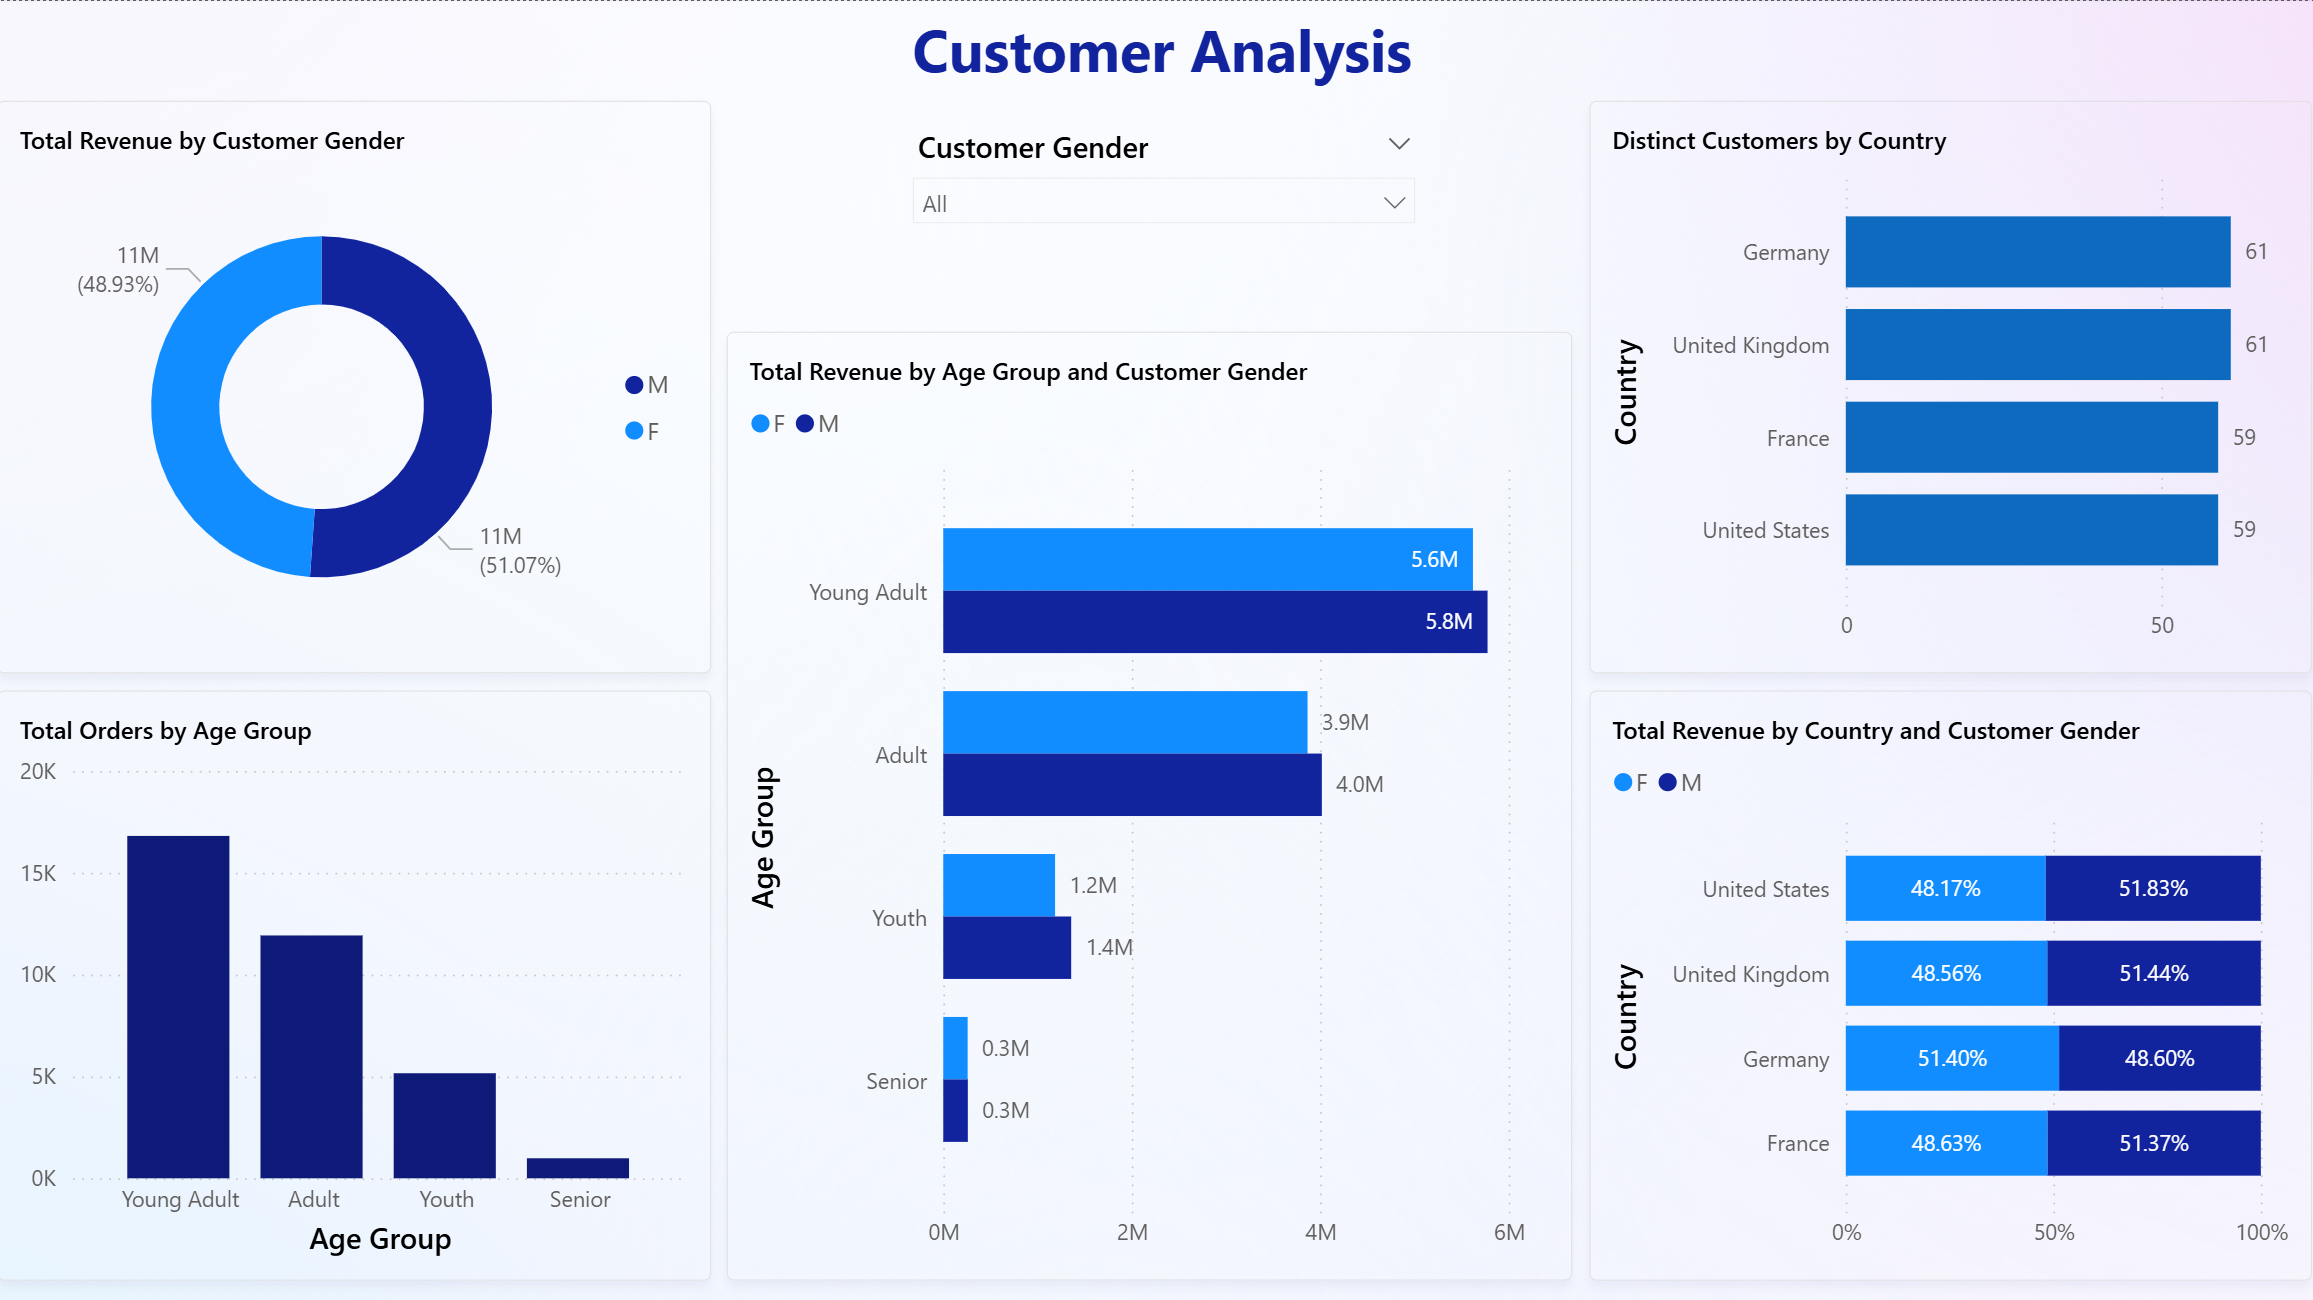

What the dashboard file says about the page in this screenshot:
{"tool":"powerbi","page":{"name":"Customer Analysis","canvas":[1280,720],"ordinal":4},"visuals":[{"type":"textbox","box":[501.5,0,288.1,55.2],"z":0},{"type":"donutChart","fields":{"Category":["salesforcourse-4fe2kehu.Customer Gender"],"Y":["salesforcourse-4fe2kehu.Total Revenue"]},"box":[0,55.2,394.8,316.3],"z":1},{"type":"clusteredColumnChart","fields":{"Category":["salesforcourse-4fe2kehu.Age Group"],"Y":["salesforcourse-4fe2kehu.Total Orders"]},"box":[0,381.3,394.8,326.1],"z":2},{"type":"clusteredBarChart","fields":{"Category":["salesforcourse-4fe2kehu.Age Group"],"Y":["salesforcourse-4fe2kehu.Total Revenue"],"Series":["salesforcourse-4fe2kehu.Customer Gender"]},"box":[403.5,182.9,467.3,524.4],"z":3},{"type":"clusteredBarChart","fields":{"Category":["salesforcourse-4fe2kehu.Country"],"Y":["salesforcourse-4fe2kehu.Distinct Customers"]},"box":[880.5,55.2,399.6,316.4],"z":4},{"type":"hundredPercentStackedBarChart","fields":{"Category":["salesforcourse-4fe2kehu.Country"],"Y":["salesforcourse-4fe2kehu.Total Revenue"],"Series":["salesforcourse-4fe2kehu.Customer Gender"]},"box":[880.5,381.2,399.6,326.1],"z":5},{"type":"slicer","fields":{"Values":["salesforcourse-4fe2kehu.Customer Gender"]},"box":[501.5,69.9,288.1,82.1],"z":6}]}

Visuals, with their boxes in screenshot pixels (x1, y1, x2, y2), scaled from the page's 1280x720 canvas onto the 2313x1300 screenshot:
textbox: 906, 0, 1427, 100
donutChart - salesforcourse-4fe2kehu.Customer Gender x salesforcourse-4fe2kehu.Total Revenue: 0, 100, 713, 671
clusteredColumnChart - salesforcourse-4fe2kehu.Age Group x salesforcourse-4fe2kehu.Total Orders: 0, 688, 713, 1277
clusteredBarChart - salesforcourse-4fe2kehu.Age Group x salesforcourse-4fe2kehu.Total Revenue: 729, 330, 1574, 1277
clusteredBarChart - salesforcourse-4fe2kehu.Country x salesforcourse-4fe2kehu.Distinct Customers: 1591, 100, 2312, 671
hundredPercentStackedBarChart - salesforcourse-4fe2kehu.Country x salesforcourse-4fe2kehu.Total Revenue: 1591, 688, 2312, 1277
slicer - salesforcourse-4fe2kehu.Customer Gender: 906, 126, 1427, 274
